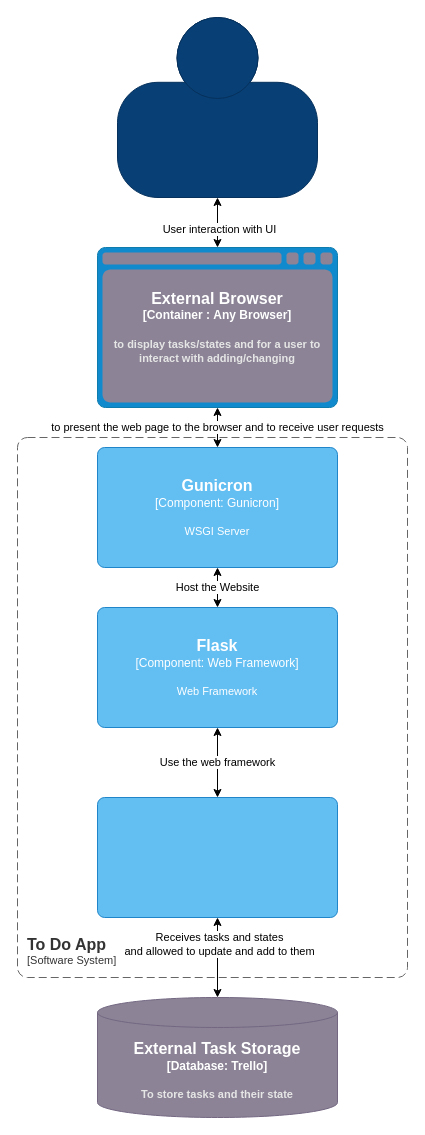
This 425x1135 diagram has some shape labels left out. Each missing label, with the centre of its shape:
Python web APP [Component: Python] Buisness logic: the point at 217,857
User [Person] General User: the point at 217,107
